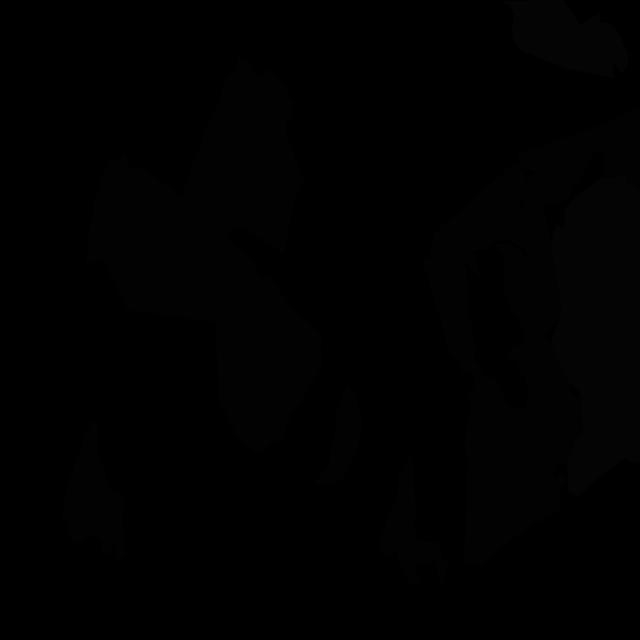cardboard: (86, 154, 322, 454), (462, 242, 583, 566), (424, 161, 562, 375), (181, 55, 304, 253), (518, 106, 640, 207), (379, 450, 448, 587), (62, 419, 126, 561), (314, 383, 362, 485)
soft_plastic: (550, 176, 640, 497), (501, 0, 629, 79)
